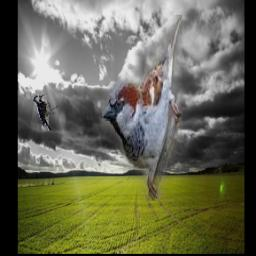Sparrow: (103, 16, 183, 202)
Woodpecker: (33, 92, 58, 131)
